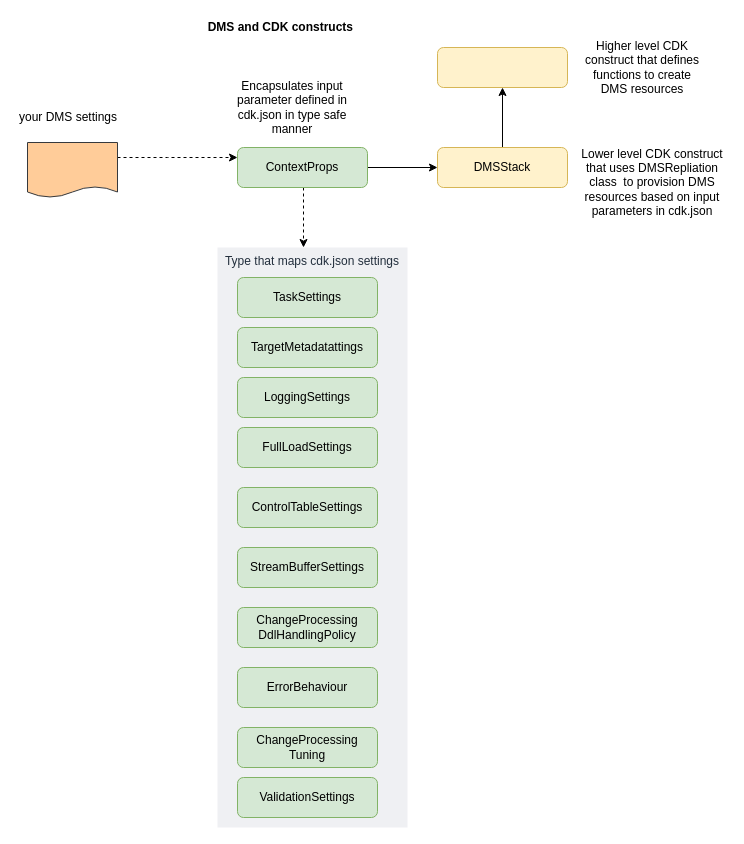
Image size: 744x844. Some labels were removed from this diagram. Here are the shapes that lost their labels. From the top down, the centre of each, then its label:
At pixel 502 67: "DMSReplication".
At pixel 72 170: "cdk.json".
